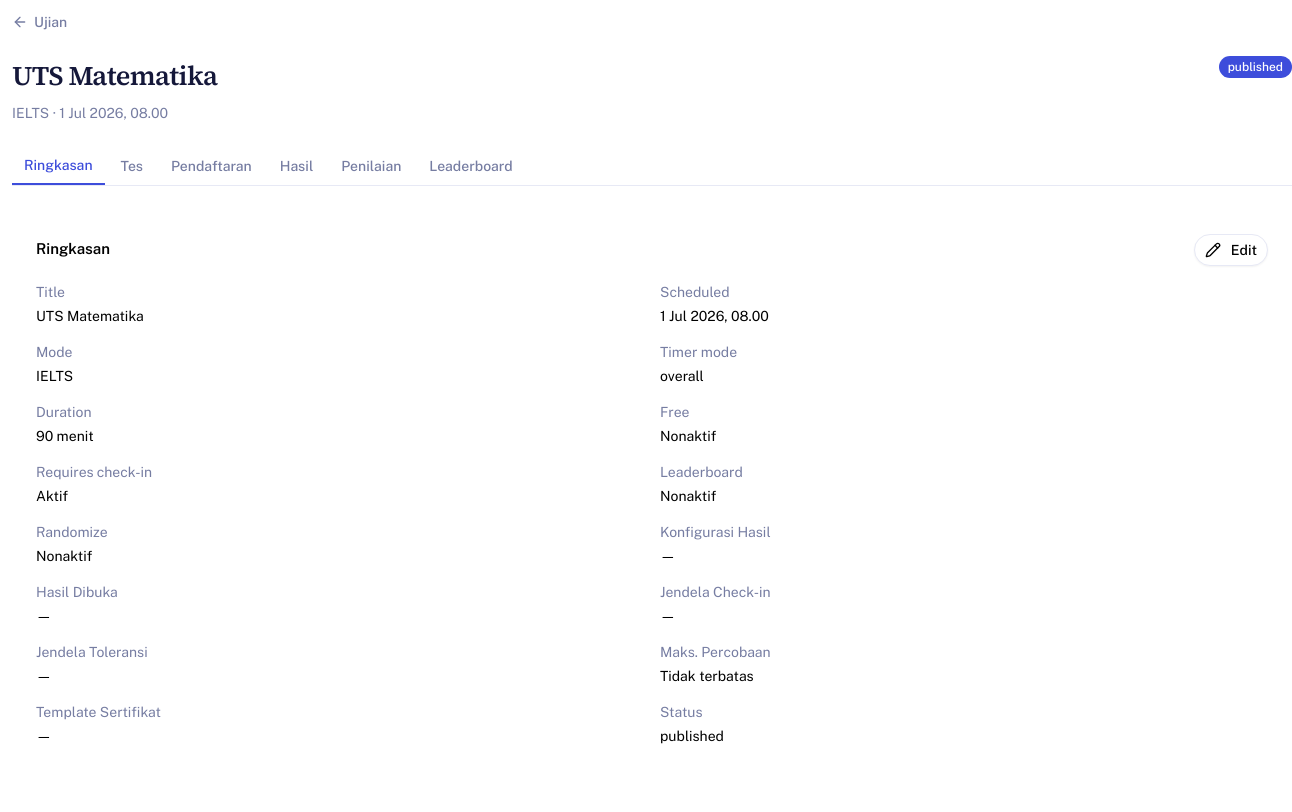
Test case: ExamPackageDetailPage — preset buttons in tests tab › shows IELTS preset button when exam mode is ielts
The image size is (1292, 812).
Click the button "Tes". click: coordinates (132, 166)
box: [108,146,155,184]
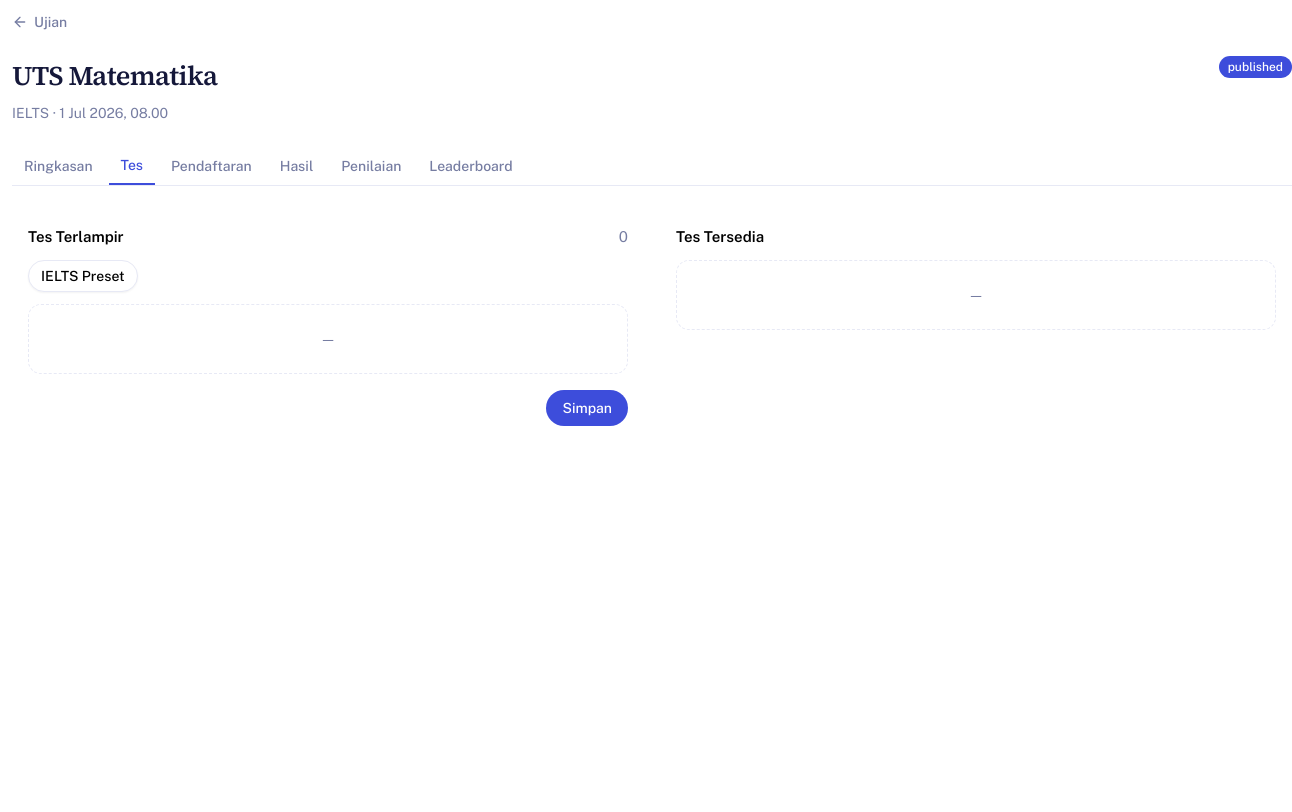
expect the button "IELTS Preset" is shown: met, box [28,260,138,292]
